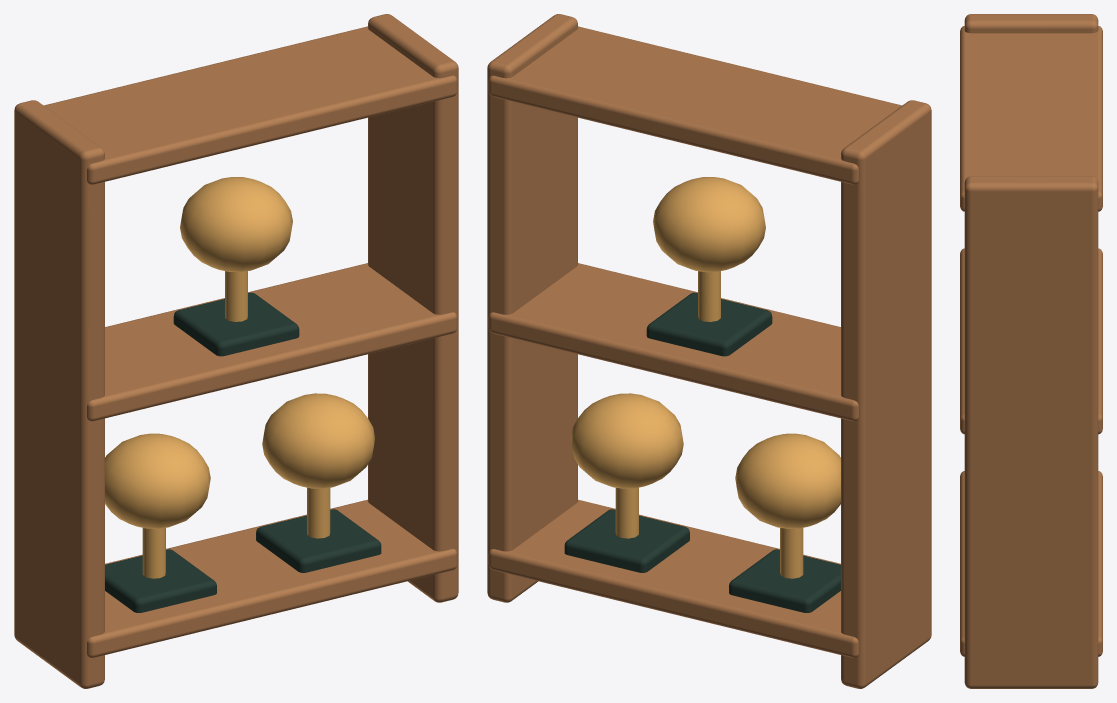
Rendered from trophy-shelf.glb.
3 renders of one model, left to right at view 1: azimuth 30°, elevation 25°; view 2: azimuth 150°, elevation 25°; view 3: azimuth 270°, elevation 25°, orthographic. The views are drawn at different scales.
Visible parts, largest first — view 1: trophy_shelf; view 2: trophy_shelf; view 3: trophy_shelf.
Part boxes in pixels (box(x1,y1,x2,y2)): trophy_shelf: box(14, 14, 458, 688); trophy_shelf: box(487, 14, 931, 688); trophy_shelf: box(960, 14, 1102, 688).
Size of the model in its own units: 0.92 by 1.25 by 0.32.
